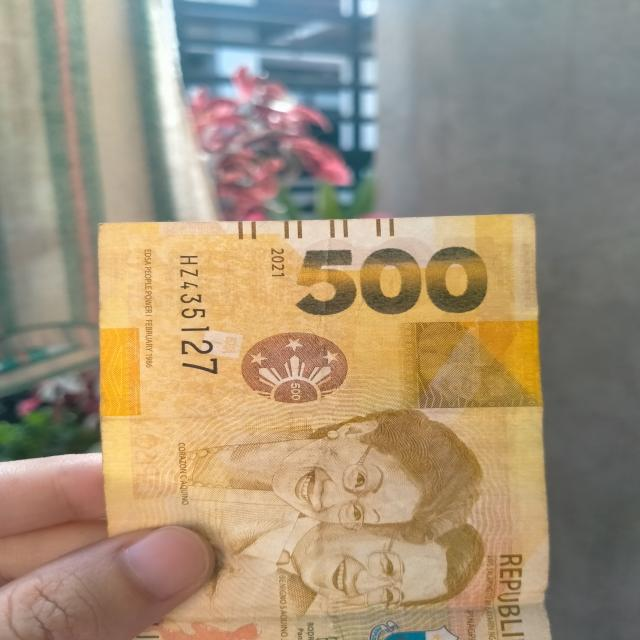concealed_value: (396, 319, 543, 412)
optically_variable_device: (225, 320, 365, 410)
value: (299, 238, 488, 318)
